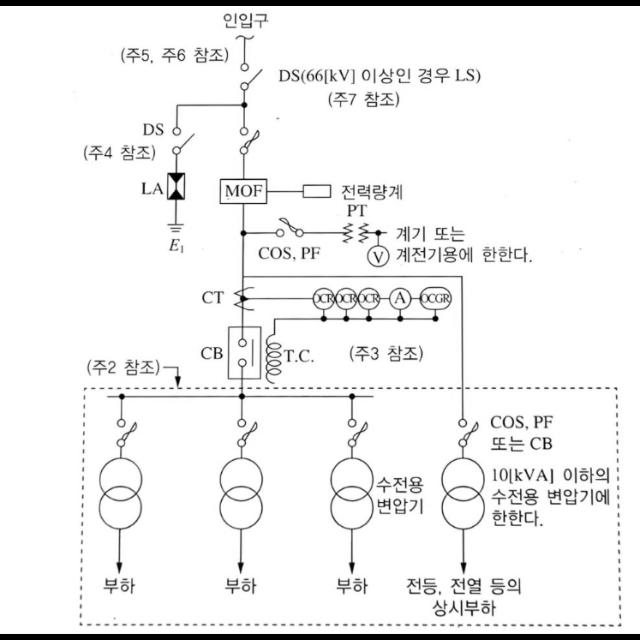A: (388, 288, 412, 310)
CB: (230, 327, 260, 379)
CT: (233, 286, 254, 310)
GND: (167, 222, 185, 234)
LA: (168, 172, 185, 200)
MOF: (221, 180, 267, 204)
PF: (240, 127, 260, 155), (276, 217, 304, 237), (237, 419, 257, 447), (347, 419, 367, 447), (459, 419, 479, 447), (118, 418, 136, 448)
PT: (344, 222, 368, 244)
V: (367, 246, 389, 268)
ds: (173, 128, 195, 154), (241, 64, 263, 90)
